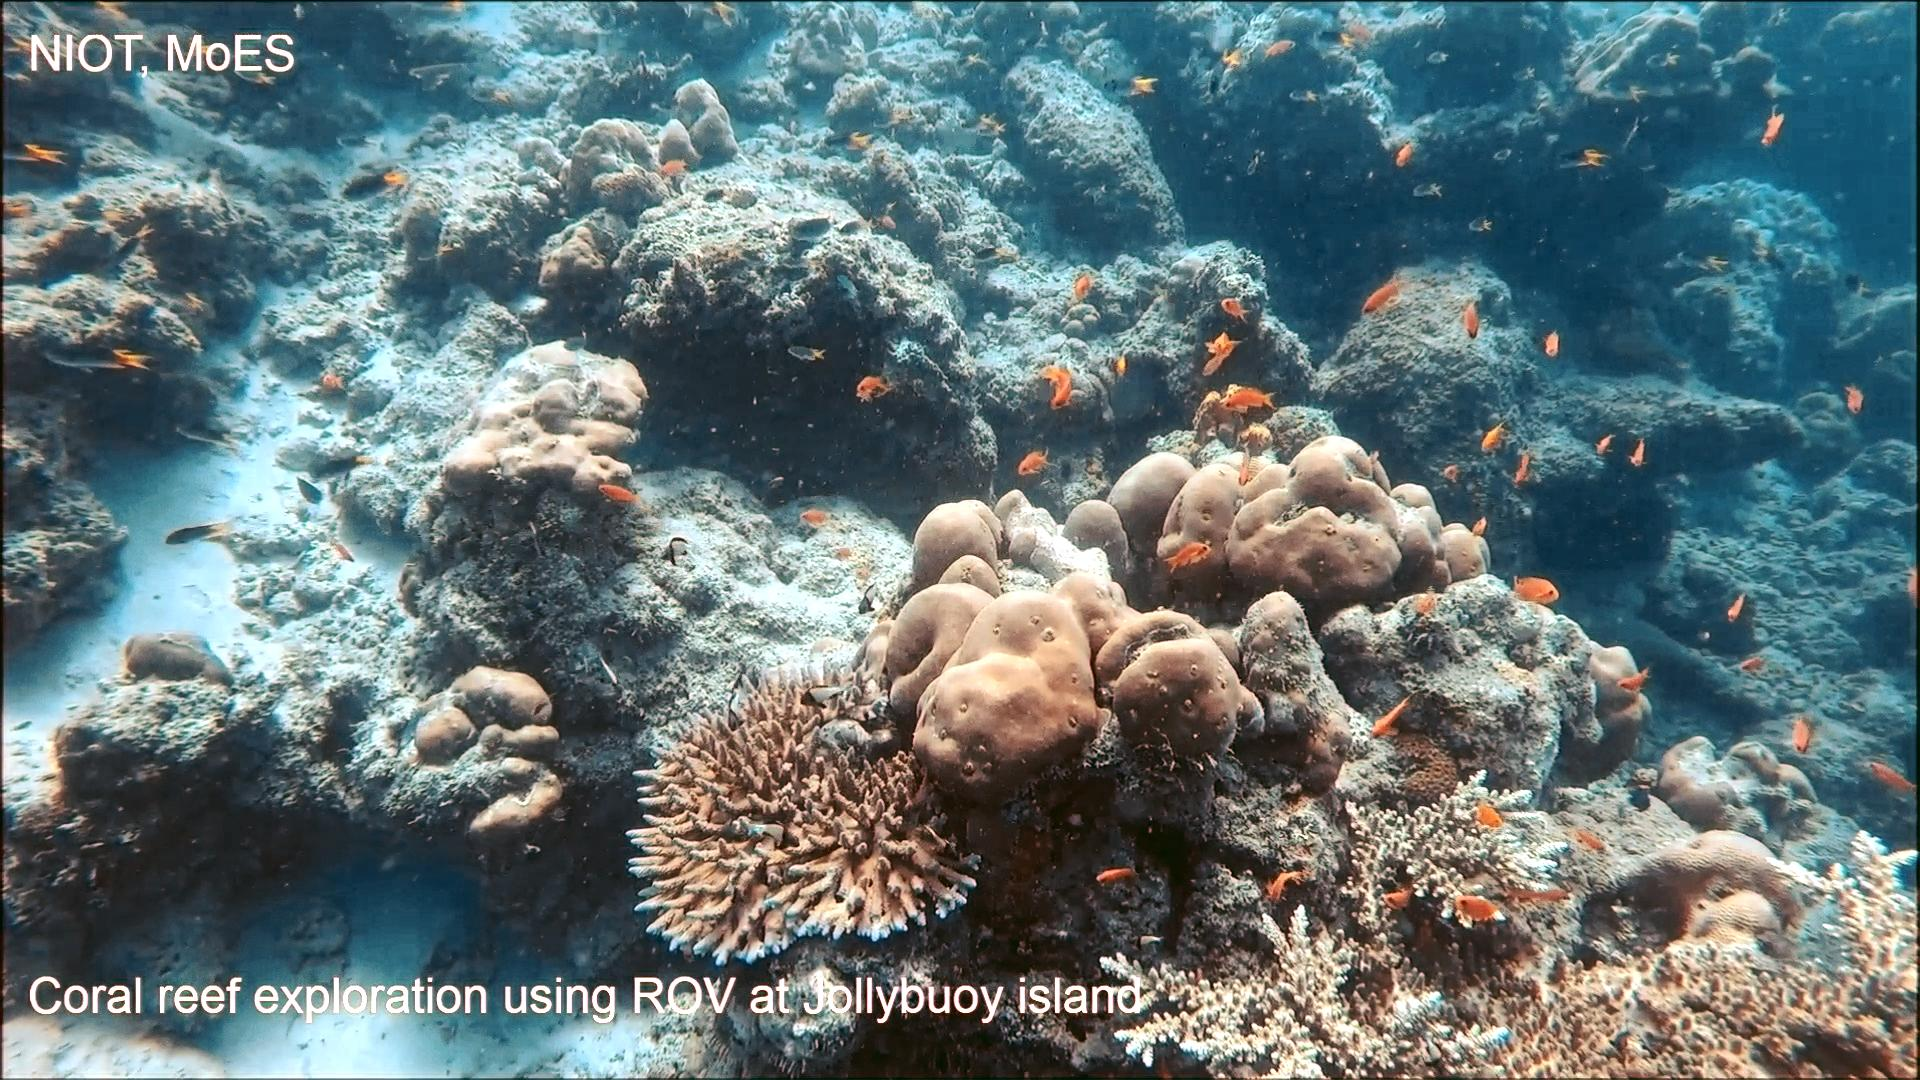Porites-Porites pukoensis: (856, 480, 1269, 820), (1088, 426, 1499, 612)
